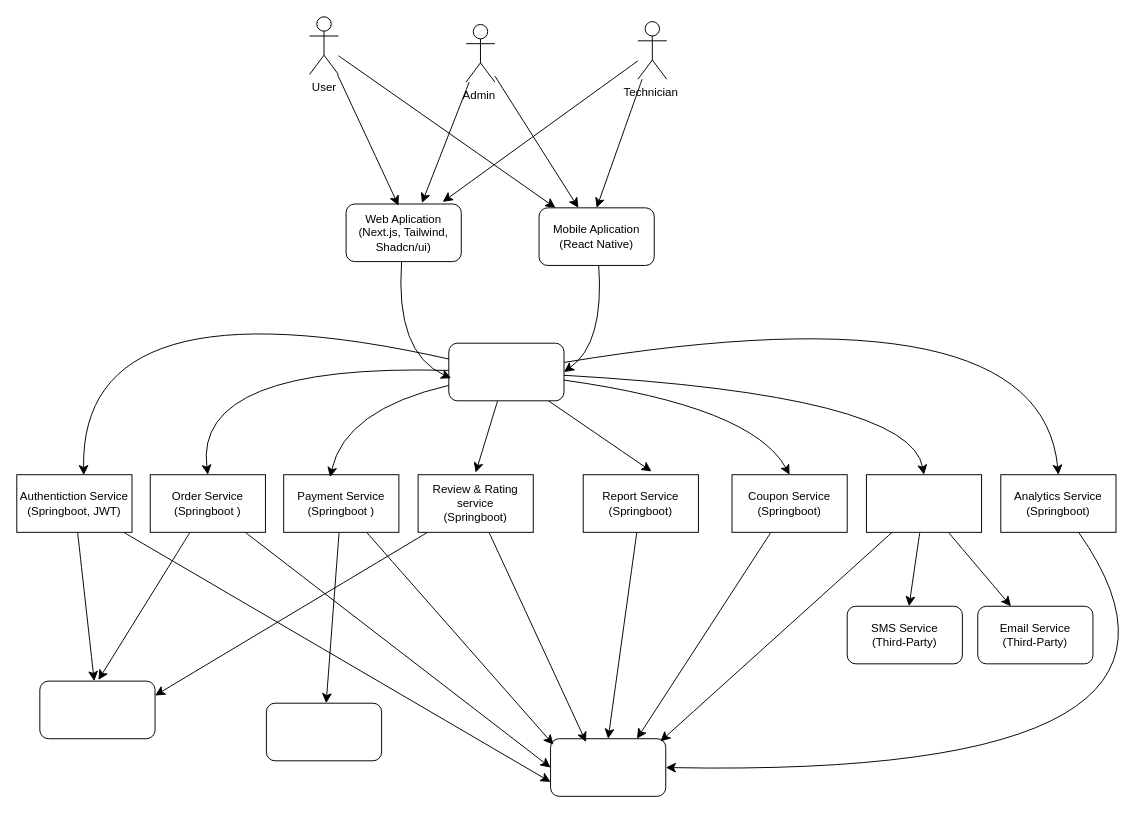
The diagram is 1136 pixels wide and 813 high, and some of its shapes have lost their labels. The box of each missing label's shape, as (x1, y1, x2, y2) in pixels:
API Gateway (kong): (448, 342, 564, 401)
Notification Service (Springboot): (865, 474, 982, 532)
Payment Gateaway (Third-party): (265, 702, 382, 761)
PostgeSQL Database: (550, 738, 666, 796)
Redis Cache: (39, 680, 155, 739)
